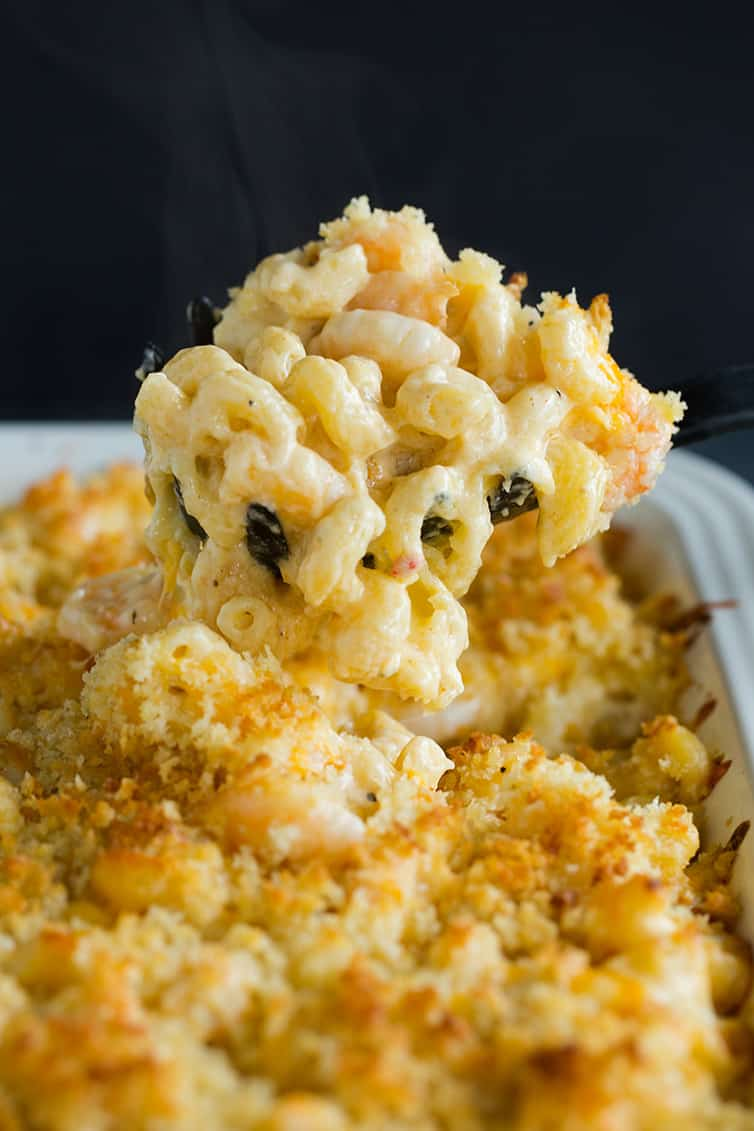macncheese: (90, 194, 667, 709)
